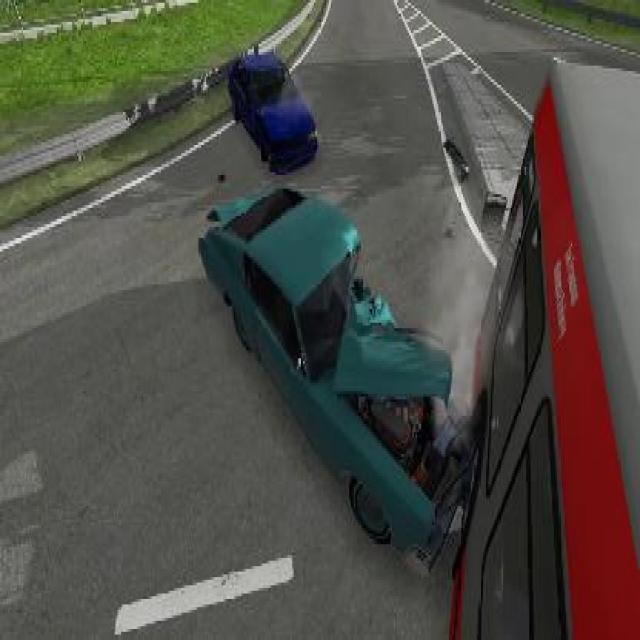accident: (190, 19, 638, 637)
